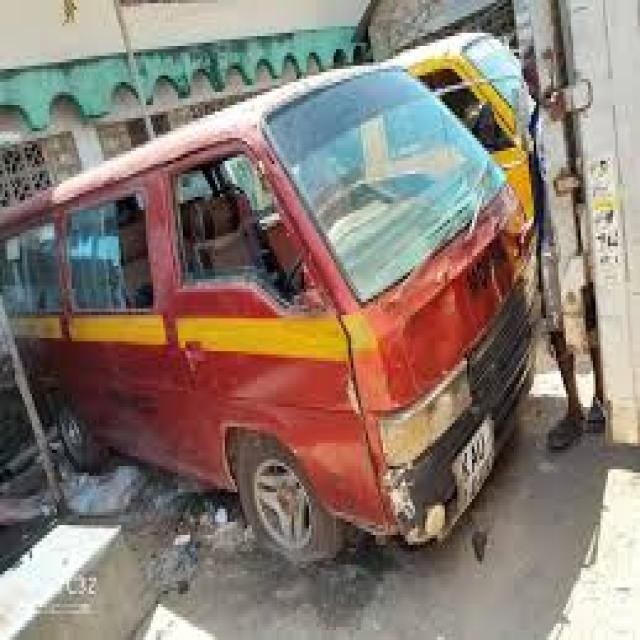matatu: (1, 46, 583, 578)
